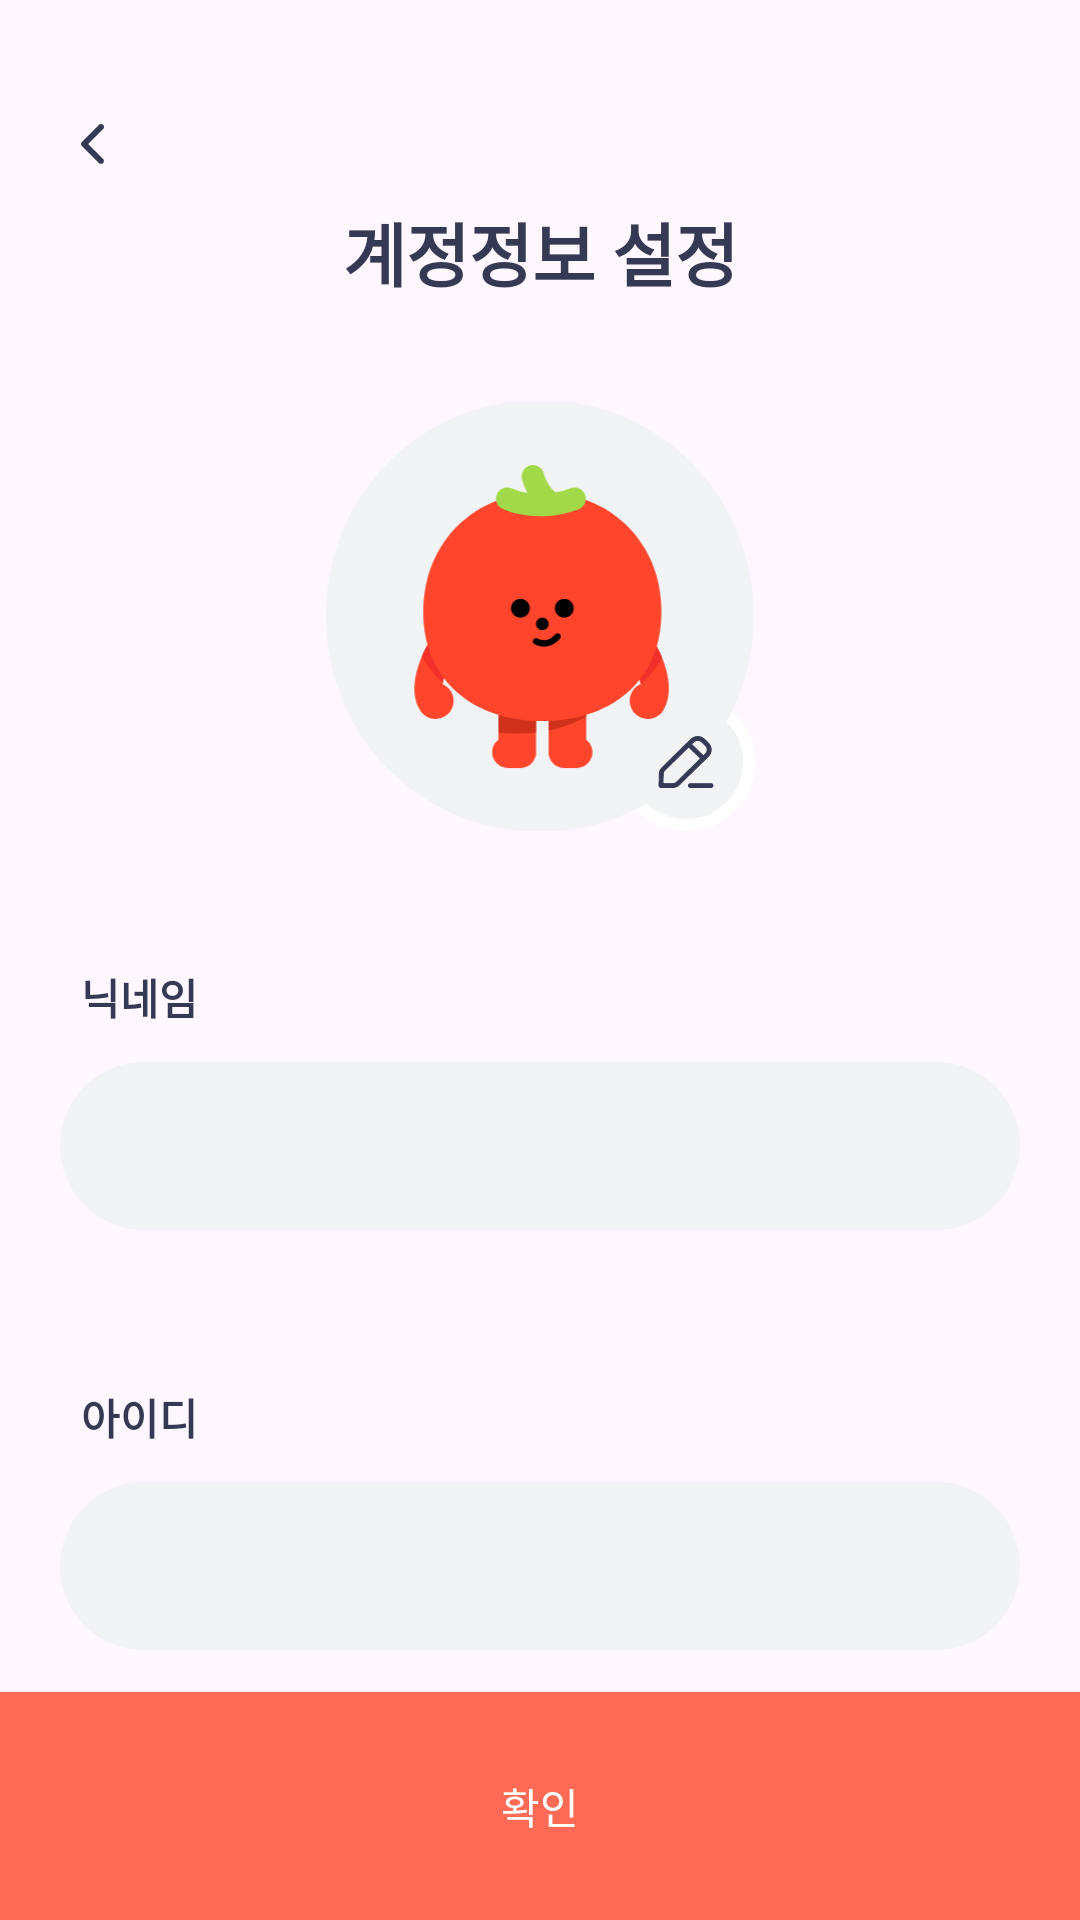

Point at icon controls on the screen. Image size 1080 x 1920, points as (x=x, y=y).
back arrow: (x=92, y=144)
edit: (x=686, y=762)
profile: (x=541, y=616)
